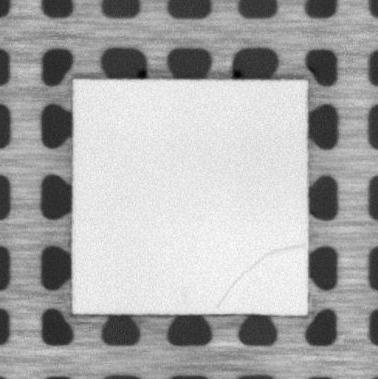DIE_CRACK: (215, 243, 306, 310)
